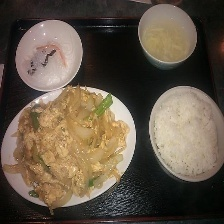rice: (154, 91, 219, 175)
